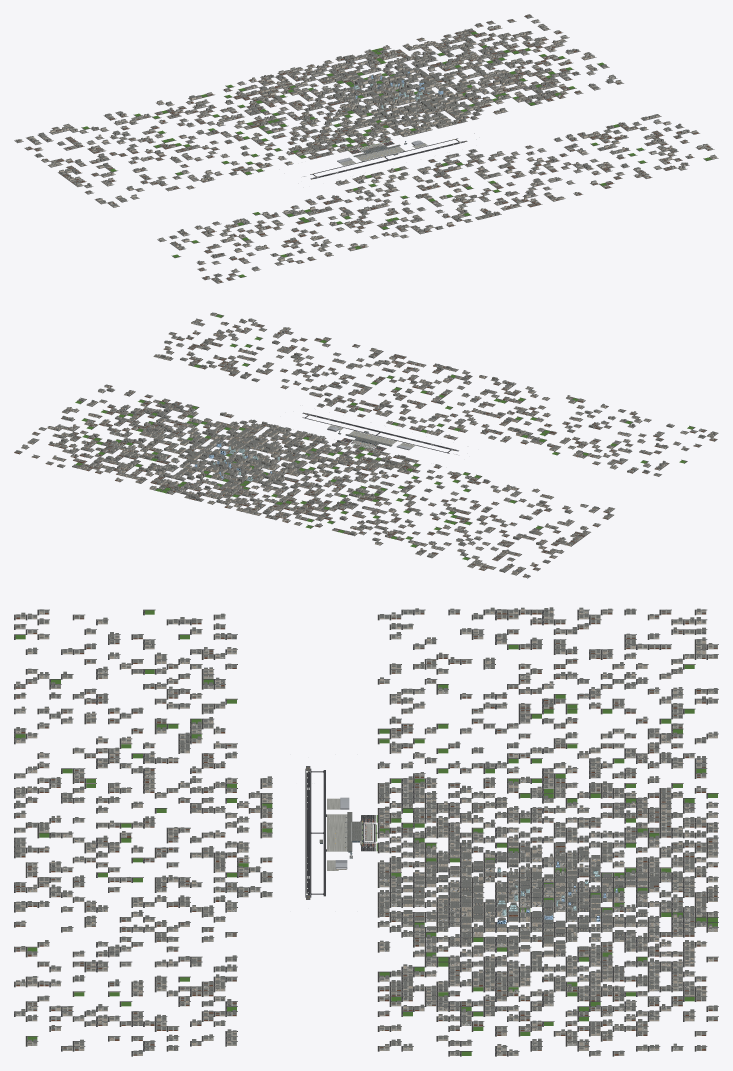
The model's file is airport3.glb.
3 renders of one model, top to bottom at view 1: azimuth 30°, elevation 25°; view 2: azimuth 150°, elevation 25°; view 3: azimuth 270°, elevation 25°, orthographic. The views are drawn at different scales.
Visible parts, largest first — view 1: A2_Town_0_1, A2_Town_1_1, A2_Town_2_1, A2_Town_0_2, A2_Town_1_2, A2_Town_-1_1, A2_Town_2_2, A2_Town_0_0, A2_Town_-1_2, A2_Town_0_-2, A2_Town_-1_0, A2_Town_1_0 (+24 smaller); view 2: A2_Town_0_1, A2_Town_1_1, A2_Town_2_1, A2_Town_0_2, A2_Town_1_2, A2_Town_-1_1, A2_Town_2_2, A2_Town_0_0, A2_Town_-1_2, A2_Town_0_-2, A2_Town_-1_0, A2_Town_1_0 (+24 smaller); view 3: A2_Town_0_1, A2_Town_1_1, A2_Town_2_1, A2_Town_0_2, A2_Town_1_2, A2_Town_2_2, A2_Town_-1_1, A2_Town_0_0, A2_Town_0_-2, A2_Town_-1_2, A2_Town_1_0, A2_Town_-1_0 (+28 smaller).
Boxes of the visible parts, x1,y1,x2,y2 form: A2_Town_0_1: [305, 80, 420, 127]; A2_Town_1_1: [380, 62, 490, 109]; A2_Town_2_1: [451, 47, 565, 91]; A2_Town_0_2: [275, 55, 380, 98]; A2_Town_1_2: [349, 43, 447, 80]; A2_Town_-1_1: [236, 100, 342, 141]; A2_Town_2_2: [416, 20, 519, 63]; A2_Town_0_0: [346, 109, 443, 145]; A2_Town_-1_2: [205, 74, 297, 113]; A2_Town_0_-2: [439, 172, 542, 219]; A2_Town_-1_0: [286, 127, 368, 159]; A2_Town_1_0: [421, 95, 507, 127]; A2_Town_0_1: [224, 445, 337, 492]; A2_Town_1_1: [154, 427, 261, 473]; A2_Town_2_1: [82, 410, 187, 457]; A2_Town_0_2: [190, 473, 297, 515]; A2_Town_1_2: [127, 458, 221, 499]; A2_Town_-1_1: [304, 466, 394, 509]; A2_Town_2_2: [45, 440, 152, 482]; A2_Town_0_0: [264, 427, 360, 463]; A2_Town_-1_2: [265, 497, 363, 531]; A2_Town_0_-2: [352, 354, 458, 398]; A2_Town_-1_0: [338, 446, 421, 477]; A2_Town_1_0: [201, 412, 284, 444]; A2_Town_0_1: [460, 830, 601, 897]; A2_Town_1_1: [460, 890, 601, 957]; A2_Town_2_1: [460, 954, 601, 1021]; A2_Town_0_2: [600, 830, 718, 897]; A2_Town_1_2: [600, 892, 718, 957]; A2_Town_2_2: [600, 954, 718, 1021]; A2_Town_-1_1: [460, 771, 601, 833]; A2_Town_0_0: [377, 830, 460, 897]; A2_Town_0_-2: [14, 831, 167, 897]; A2_Town_-1_2: [600, 771, 718, 833]; A2_Town_1_0: [377, 894, 460, 957]; A2_Town_-1_0: [377, 772, 460, 833].
Bounding box in the file's own units: 10818 × 98.27 × 7209.
30 materials, 15 textured.
